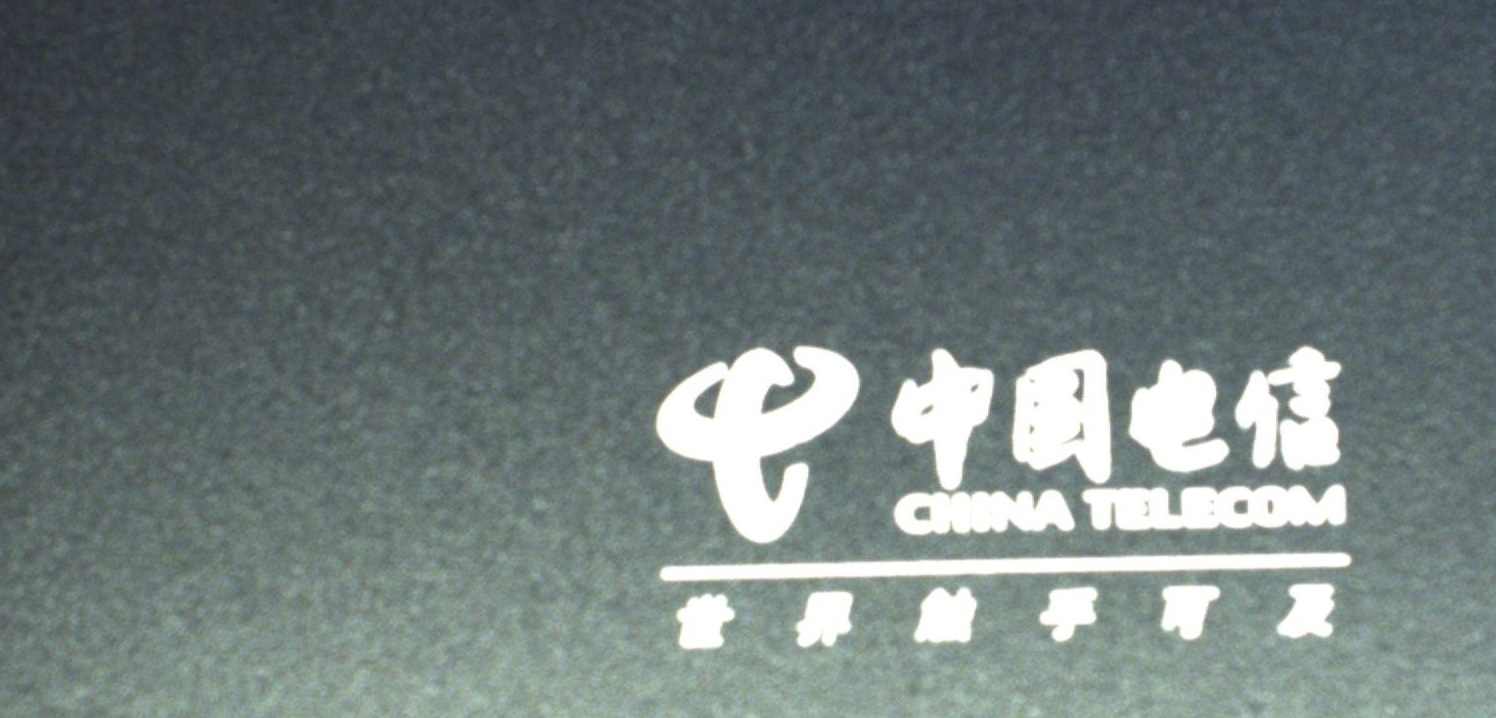AB_ChinaTelecom: (642, 336, 1361, 667)
